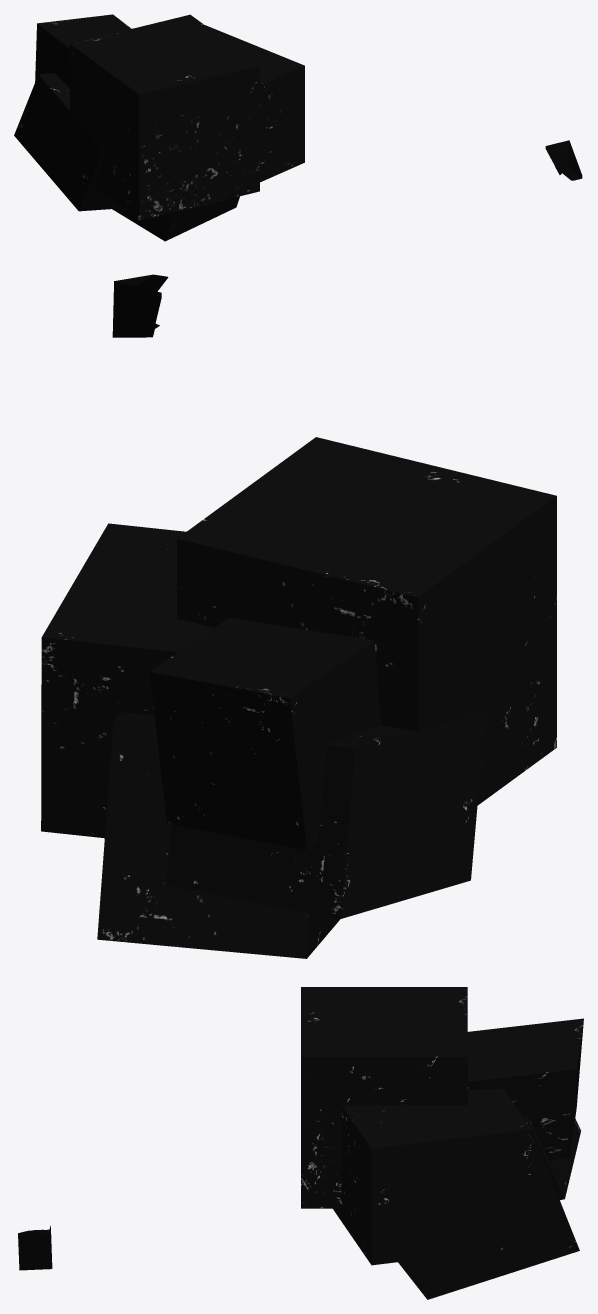
File: Geode.fbx
3 renders of one model, top to bottom at view 1: azimuth 30°, elevation 25°; view 2: azimuth 150°, elevation 25°; view 3: azimuth 270°, elevation 25°, orthographic. The views are drawn at different scales.
Visible parts, largest first — view 1: Geode_Cube.002, Geode_For_Ref; view 2: Geode_Cube.002, Geode_For_Ref; view 3: Geode_Cube.002, Geode_For_Ref.
Boxes of the visible parts, box(x1,y1,x2,y2) form: Geode_Cube.002: box(14, 14, 304, 241); Geode_For_Ref: box(545, 140, 582, 180); Geode_Cube.002: box(41, 437, 556, 958); Geode_For_Ref: box(112, 274, 168, 337); Geode_Cube.002: box(301, 987, 583, 1299); Geode_For_Ref: box(18, 1225, 52, 1270).
Size of the model in its own units: 556 by 299 by 683.
Materials: 2 (2 with a texture image).
